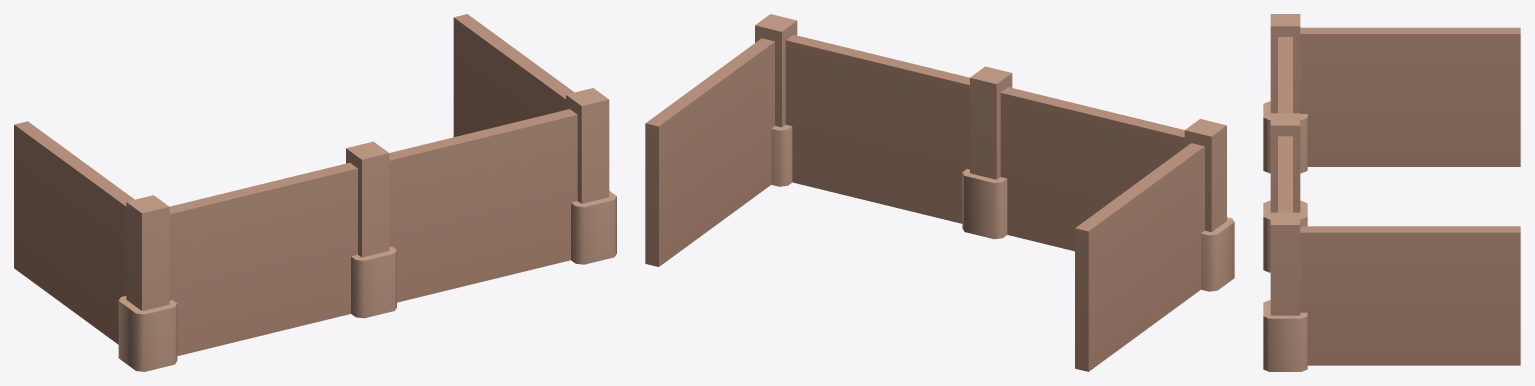
Rendered from fence-1x2.glb.
The picture shows the model from 3 angles, left to right: view 1: azimuth 30°, elevation 25°; view 2: azimuth 150°, elevation 25°; view 3: azimuth 270°, elevation 25°; orthographic projection. The views are drawn at different scales.
Visible parts, largest first — view 1: fence-1x2; view 2: fence-1x2; view 3: fence-1x2.
Part boxes in pixels (x1=…): fence-1x2: x1=14, y1=14, x2=616, y2=371; fence-1x2: x1=645, y1=14, x2=1234, y2=371; fence-1x2: x1=1263, y1=14, x2=1520, y2=371.
Bounding box in the file's own units: 0.875 × 0.27 × 0.4375.
